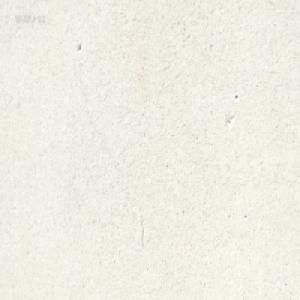Wrench: (146, 0, 153, 4)
